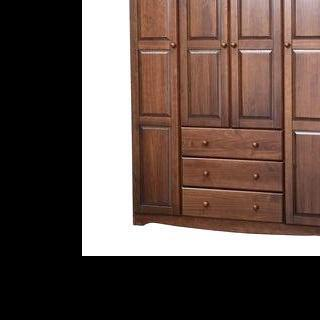Armario: (125, 0, 320, 242)
